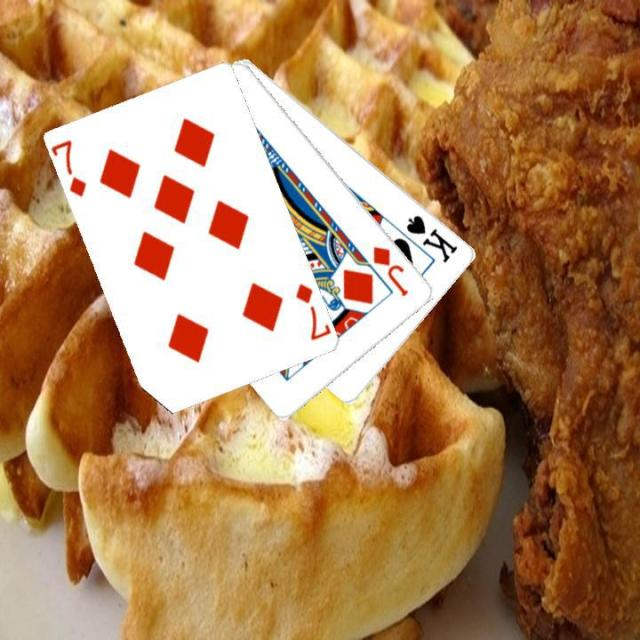7D: (292, 279, 331, 343), (51, 136, 89, 199)
JD: (369, 242, 411, 298)
KS: (402, 211, 460, 265)
